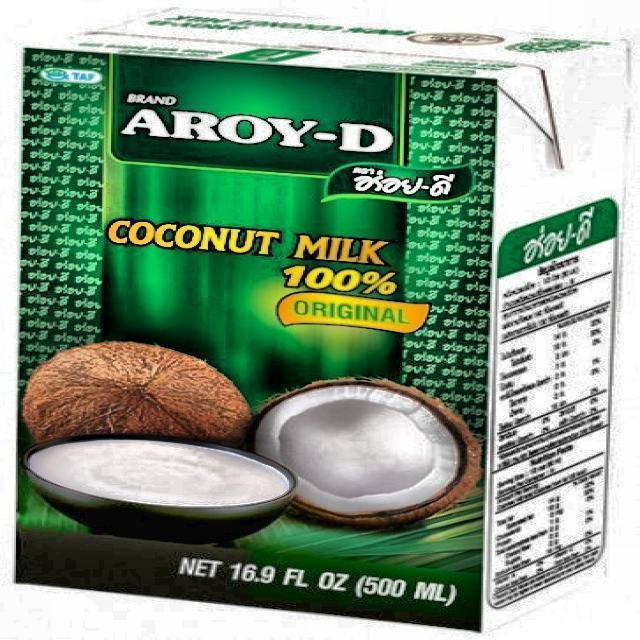cardboard: (11, 6, 630, 634)
